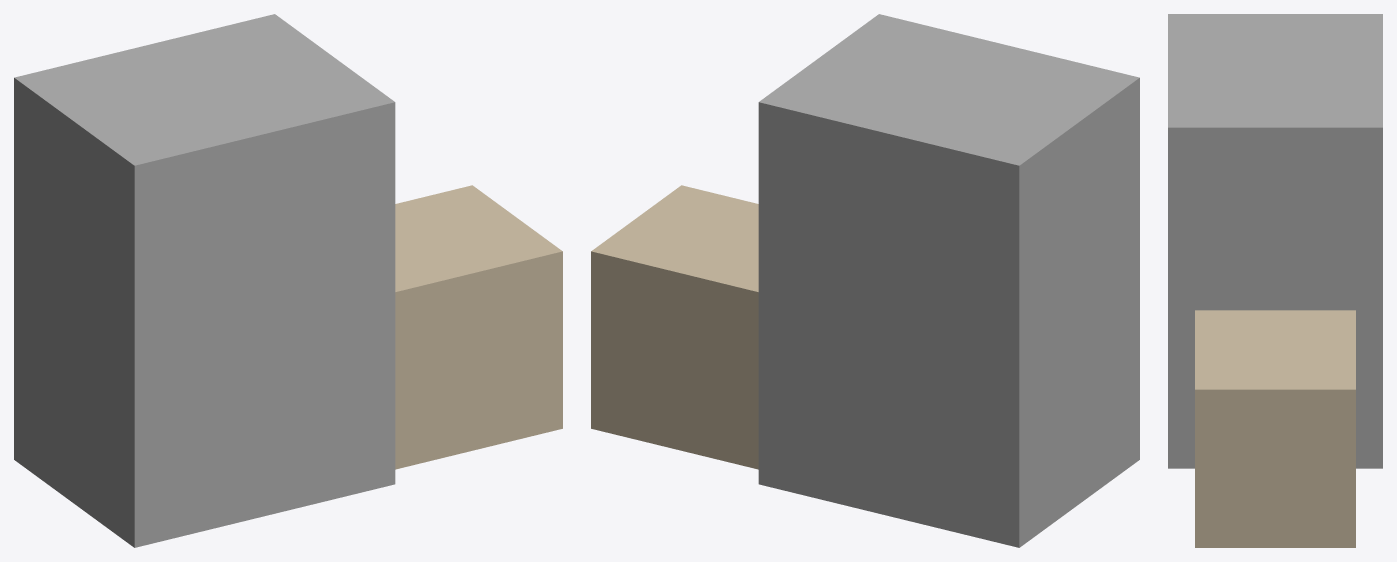
File: filing_archive.glb
3 views of the same model, side by side, from view 1: azimuth 30°, elevation 25°; view 2: azimuth 150°, elevation 25°; view 3: azimuth 270°, elevation 25° (orthographic). The views are drawn at different scales.
Visible parts, largest first — view 1: cabinet, box2, box1; view 2: cabinet, box2, box1; view 3: cabinet, box2, box1.
Part boxes in pixels (bbox=[...]): cabinet: bbox=[14, 14, 395, 547]; box2: bbox=[395, 185, 562, 401]; box1: bbox=[395, 319, 562, 469]; cabinet: bbox=[758, 14, 1139, 547]; box2: bbox=[591, 185, 758, 400]; box1: bbox=[591, 320, 758, 469]; cabinet: bbox=[1168, 14, 1382, 468]; box2: bbox=[1195, 310, 1355, 486]; box1: bbox=[1195, 450, 1355, 547].
Size of the model in its own units: 1.7 by 1.4 by 0.7998.
